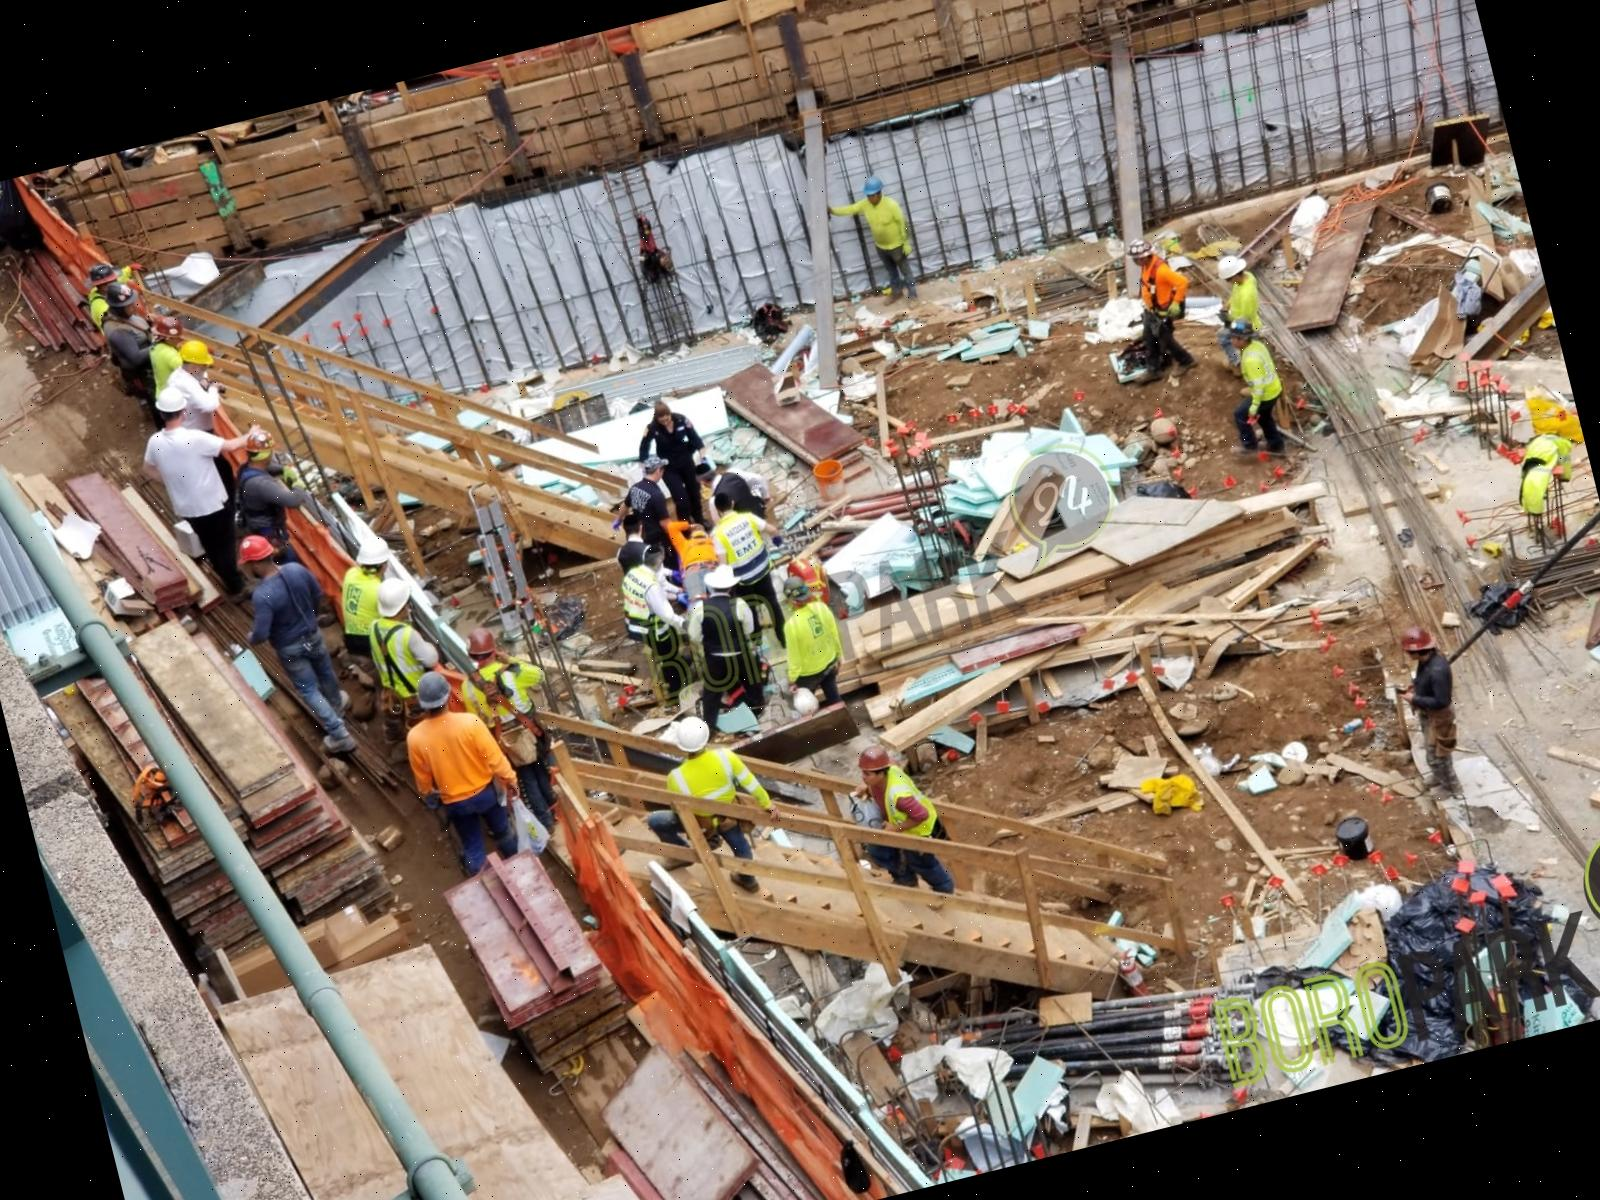helmet: (409, 662, 470, 713), (665, 703, 714, 761), (227, 524, 281, 568), (175, 329, 218, 376), (373, 579, 420, 621), (354, 529, 394, 574), (462, 624, 504, 663), (152, 381, 191, 420), (101, 282, 141, 319), (854, 740, 892, 775), (1211, 250, 1249, 284), (1123, 233, 1157, 267), (1225, 310, 1259, 344), (780, 572, 814, 605), (855, 173, 888, 202), (86, 256, 116, 285)
no_wear: (404, 708, 505, 807), (140, 413, 231, 521), (246, 561, 329, 655)
wear: (860, 765, 944, 853), (664, 749, 756, 824), (780, 600, 848, 678), (709, 512, 771, 585), (367, 619, 423, 696), (616, 567, 677, 639), (1233, 338, 1288, 402), (1230, 271, 1267, 321)
